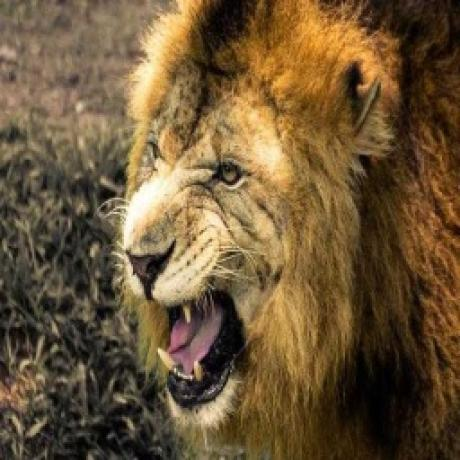Lion: (116, 0, 460, 460)
